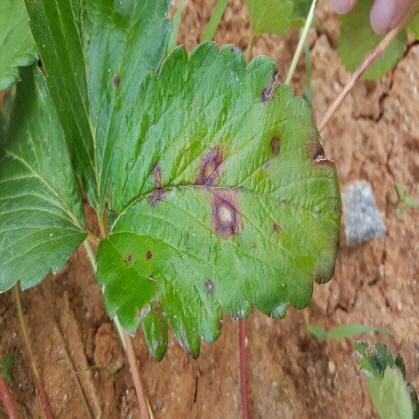Leaf Spot: (92, 40, 341, 363), (25, 0, 175, 225)
